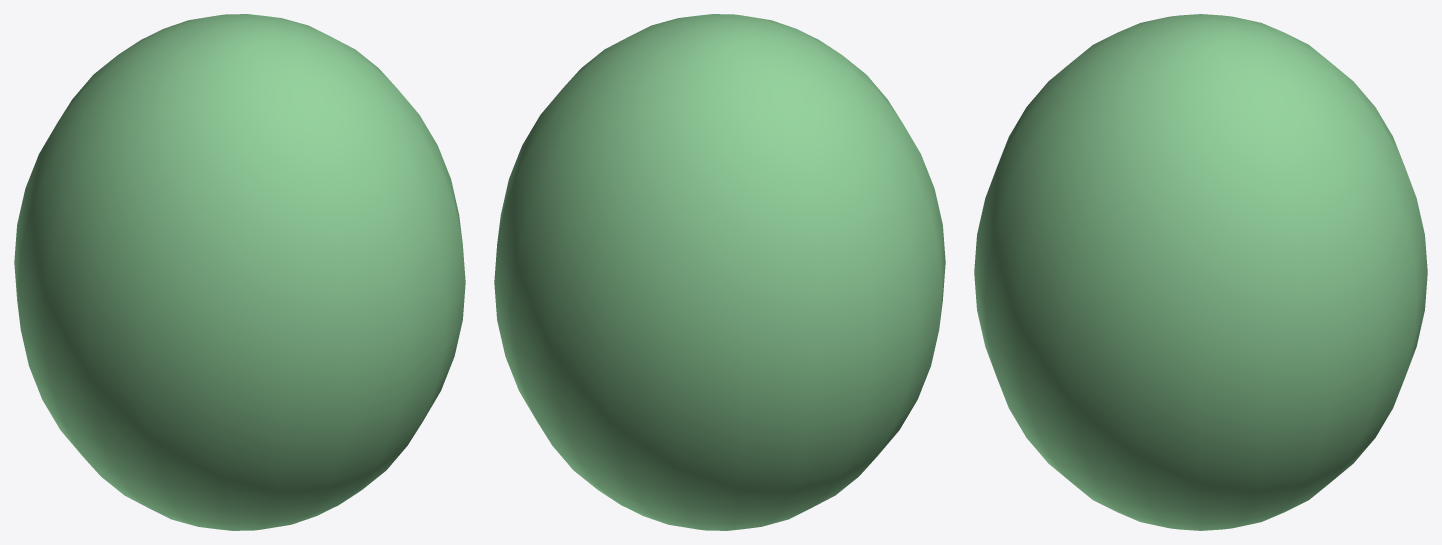
Rendered from Watermelon.fbx.
The picture shows the model from 3 angles, left to right: view 1: azimuth 30°, elevation 25°; view 2: azimuth 150°, elevation 25°; view 3: azimuth 270°, elevation 25°; orthographic projection.
Parts seen in each view (by area): view 1: WaterMelon, WaterMelon_Top, Watermelon_Bottom; view 2: WaterMelon, WaterMelon_Top; view 3: WaterMelon, WaterMelon_Top.
Part boxes in pixels (x1,y1,x2,y2): WaterMelon: (14,14,465,529); WaterMelon_Top: (108,30,371,132); Watermelon_Bottom: (152,509,301,530); WaterMelon: (494,14,945,530); WaterMelon_Top: (588,31,851,132); WaterMelon: (974,14,1427,530); WaterMelon_Top: (1069,31,1332,133).
Size of the model in its own units: 200 by 234 by 200.
